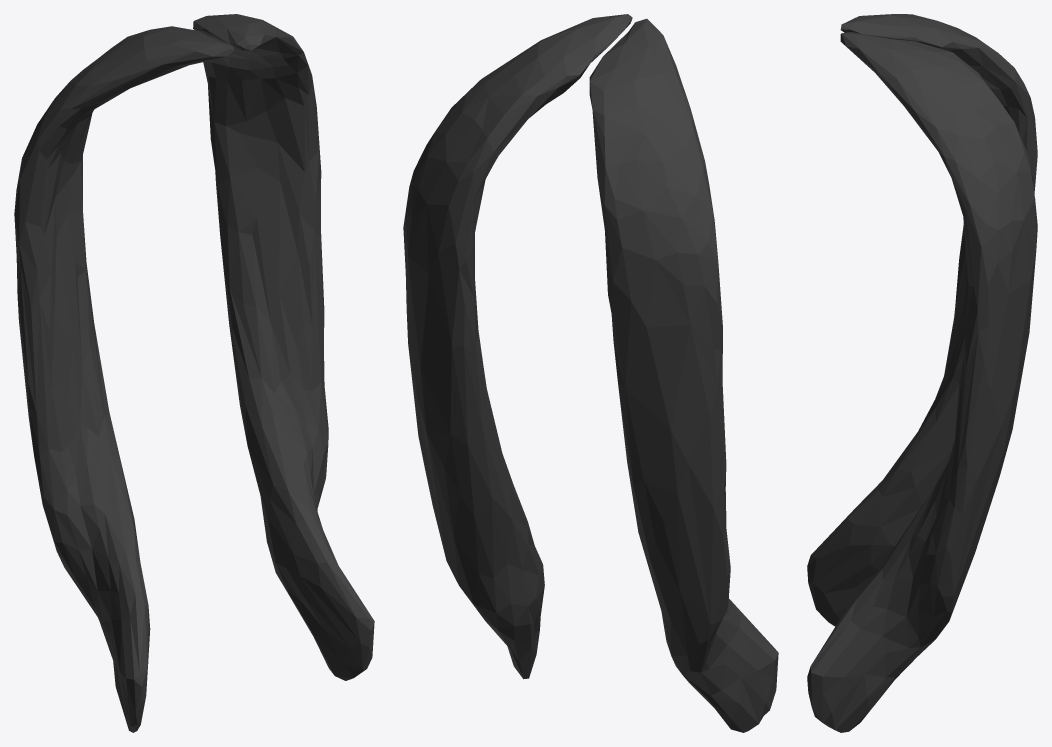
The model's file is m_semitendinosus.glb.
The picture shows the model from 3 angles, left to right: view 1: azimuth 30°, elevation 25°; view 2: azimuth 150°, elevation 25°; view 3: azimuth 270°, elevation 25°; orthographic projection. The views are drawn at different scales.
Visible parts, largest first — view 1: m_semitendinosus; view 2: m_semitendinosus; view 3: m_semitendinosus.
Part boxes in pixels (x1,y1,x2,y2): m_semitendinosus: (14,14,374,732); m_semitendinosus: (403,14,778,732); m_semitendinosus: (807,14,1037,732).
Bounding box in the file's own units: 0.00555 × 0.0116 × 0.00372.
Materials: 1 (1 with a texture image).
